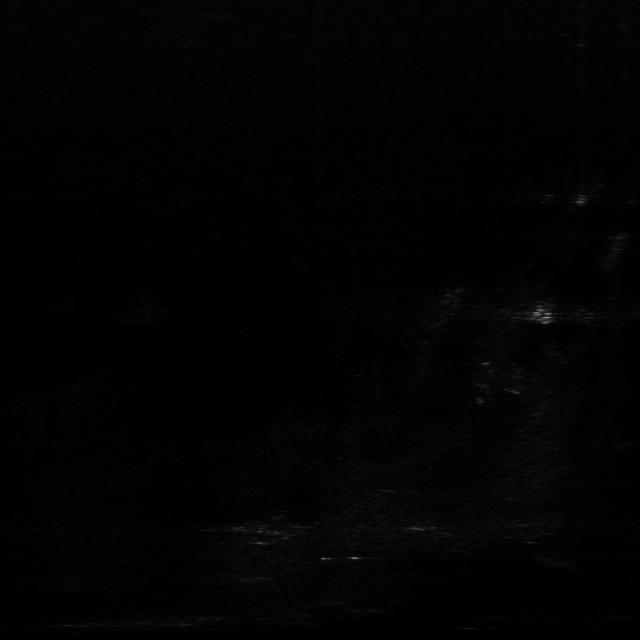rov: (526, 305, 556, 327)
